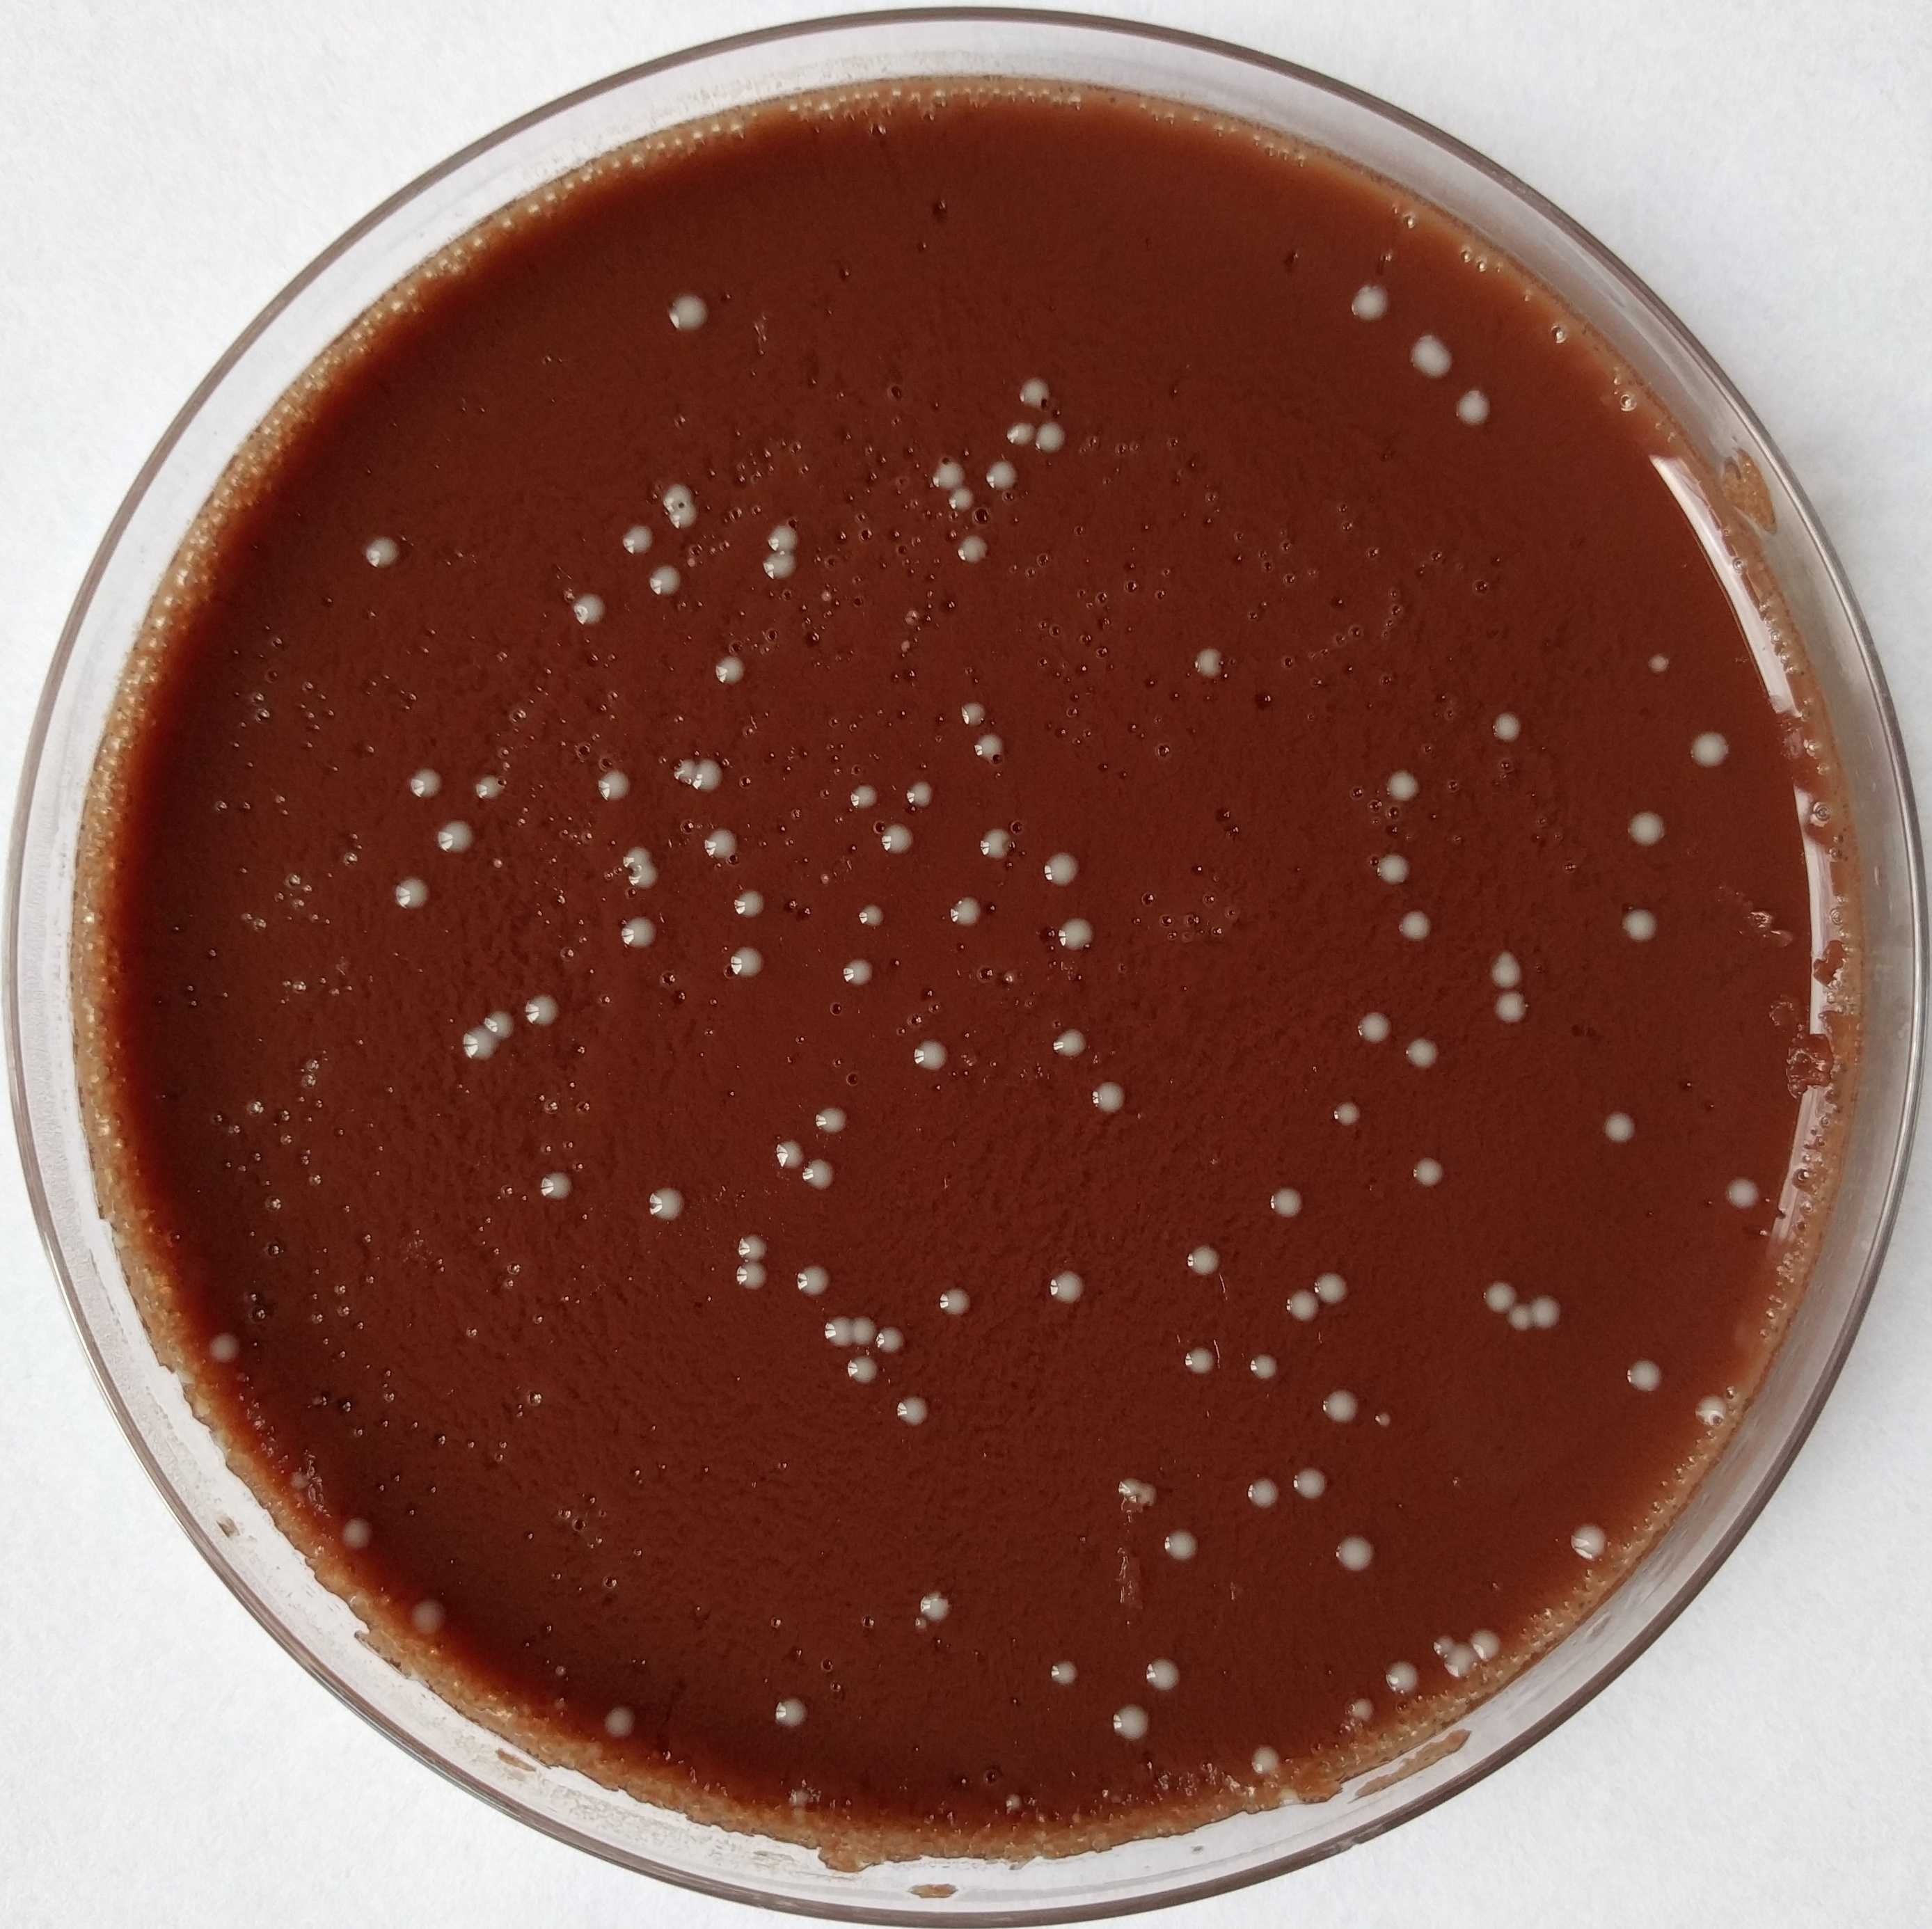sp12: (1681, 715, 1741, 784), (1612, 806, 1674, 859), (1344, 272, 1399, 329), (1402, 323, 1457, 380), (655, 284, 721, 330), (1148, 1519, 1210, 1567), (1611, 901, 1665, 952), (357, 532, 413, 581), (1367, 846, 1422, 896), (1344, 1002, 1400, 1049), (401, 1595, 459, 1641), (436, 816, 487, 867), (1332, 1526, 1377, 1581), (721, 938, 772, 986), (1042, 1026, 1097, 1070), (1448, 383, 1498, 431), (1600, 1108, 1649, 1155), (196, 1327, 245, 1374), (562, 581, 608, 632), (811, 1099, 862, 1145), (387, 873, 440, 917), (1183, 636, 1231, 684), (971, 823, 1019, 871), (645, 1182, 692, 1229), (613, 912, 662, 957), (1485, 701, 1531, 749), (1400, 1033, 1446, 1081), (1717, 1169, 1764, 1215), (1485, 991, 1535, 1035), (1316, 1381, 1360, 1431), (588, 768, 639, 811), (1051, 910, 1095, 957), (521, 987, 569, 1032), (1279, 1286, 1323, 1332), (1565, 1519, 1611, 1563), (931, 1282, 978, 1325), (1287, 1464, 1330, 1512), (1136, 1652, 1183, 1694), (595, 1699, 643, 1742), (1180, 1240, 1229, 1281), (1383, 763, 1427, 807), (1107, 1699, 1151, 1744), (641, 558, 687, 601), (699, 820, 742, 866), (1485, 949, 1528, 995), (1376, 1657, 1422, 1699), (834, 954, 881, 995), (1084, 1078, 1132, 1118), (1042, 1267, 1090, 1307), (1241, 1468, 1282, 1516), (839, 1350, 887, 1390), (399, 760, 447, 800), (978, 456, 1023, 498), (789, 1260, 832, 1304), (1241, 1348, 1287, 1388), (1619, 1350, 1658, 1397), (1238, 1742, 1286, 1781), (917, 454, 971, 488), (758, 519, 814, 551), (879, 820, 922, 862), (1392, 903, 1434, 945), (1312, 1267, 1353, 1311), (901, 774, 940, 820), (906, 1035, 952, 1074), (611, 521, 653, 562), (1038, 848, 1081, 889), (1478, 1275, 1519, 1318), (1526, 1290, 1565, 1334), (890, 1392, 934, 1431), (337, 1510, 376, 1555), (452, 1023, 496, 1062), (756, 548, 802, 585), (1180, 1339, 1217, 1385), (532, 1168, 579, 1203), (1014, 374, 1056, 413), (1438, 1643, 1480, 1682), (768, 1692, 811, 1731), (731, 1256, 775, 1293), (650, 477, 696, 512), (1634, 643, 1679, 678), (1264, 1185, 1310, 1221), (1328, 1093, 1369, 1132), (479, 1005, 517, 1046), (1030, 417, 1072, 454), (871, 1320, 908, 1362), (726, 889, 772, 922), (1413, 1148, 1450, 1189), (945, 896, 987, 931), (952, 528, 989, 567), (1692, 1390, 1727, 1431), (731, 1226, 772, 1261), (800, 1157, 841, 1192), (1042, 1657, 1084, 1691), (945, 698, 989, 730), (694, 751, 724, 797), (710, 654, 749, 689), (970, 726, 1005, 765), (842, 779, 881, 814), (855, 896, 890, 934), (1466, 1623, 1501, 1662), (818, 1312, 853, 1351), (943, 482, 984, 516), (772, 1132, 804, 1173), (466, 774, 509, 804), (1000, 417, 1035, 452), (917, 1588, 952, 1623), (668, 751, 699, 788), (849, 1314, 879, 1351), (782, 1788, 823, 1814), (1132, 1480, 1166, 1512), (1503, 1297, 1533, 1332), (668, 500, 701, 530), (616, 841, 652, 869), (625, 860, 660, 889), (1344, 1698, 1379, 1721), (286, 1466, 314, 1494), (1369, 1406, 1395, 1434), (1114, 1470, 1141, 1498), (1427, 1634, 1453, 1662), (909, 1611, 934, 1634), (1000, 1791, 1026, 1809)
